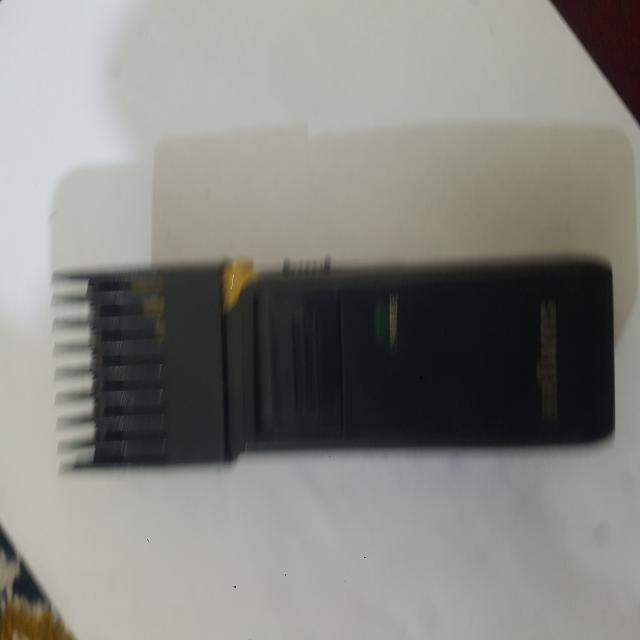electronic: (28, 202, 632, 530)
